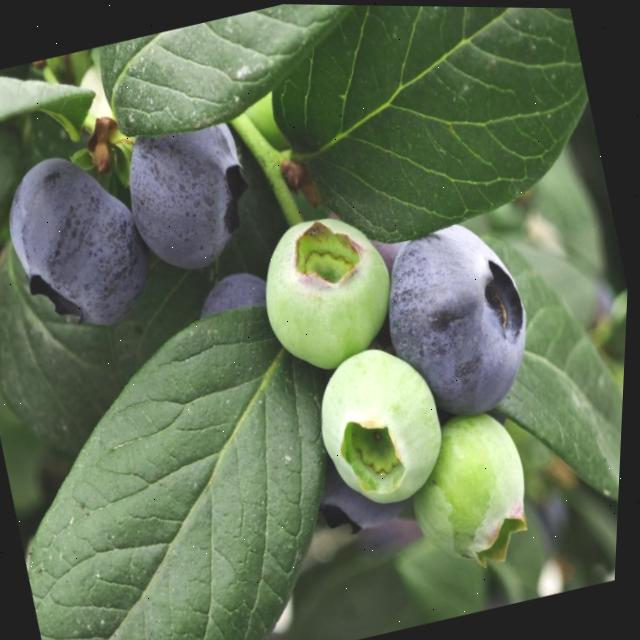RipeBlueBerry: (381, 211, 549, 420), (0, 140, 160, 347), (113, 115, 266, 282)
UnripeBlueBerry: (304, 337, 462, 515), (249, 206, 408, 376), (398, 409, 548, 581)
